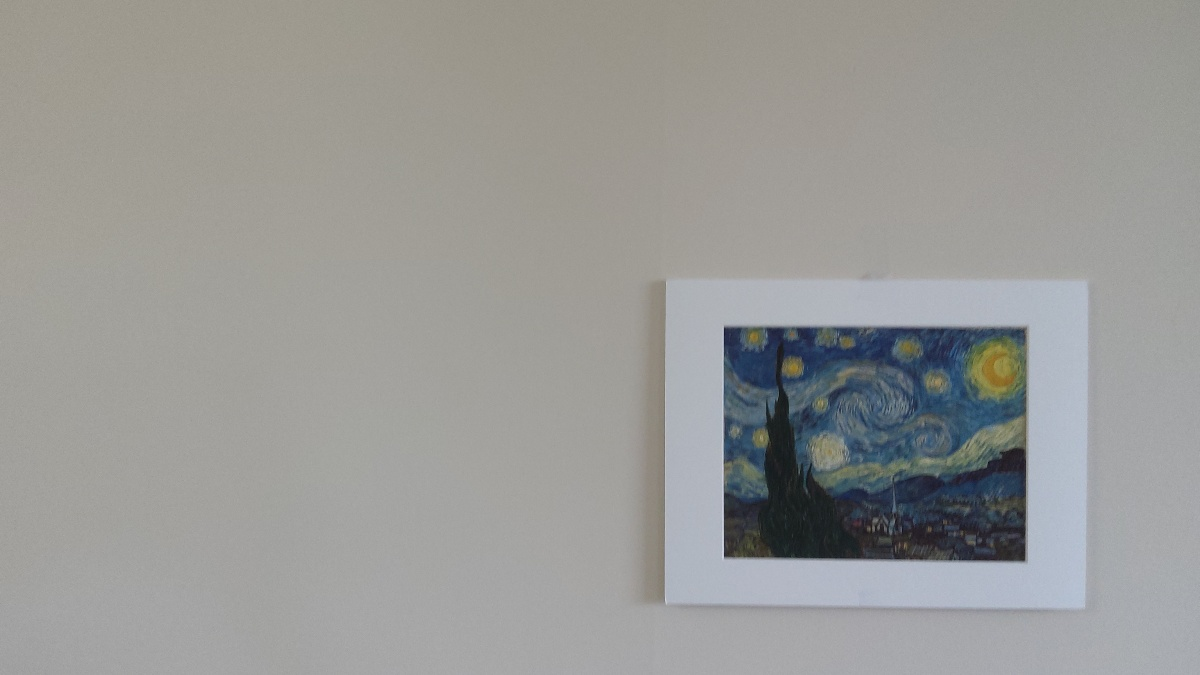painting: (708, 315, 1037, 571)
